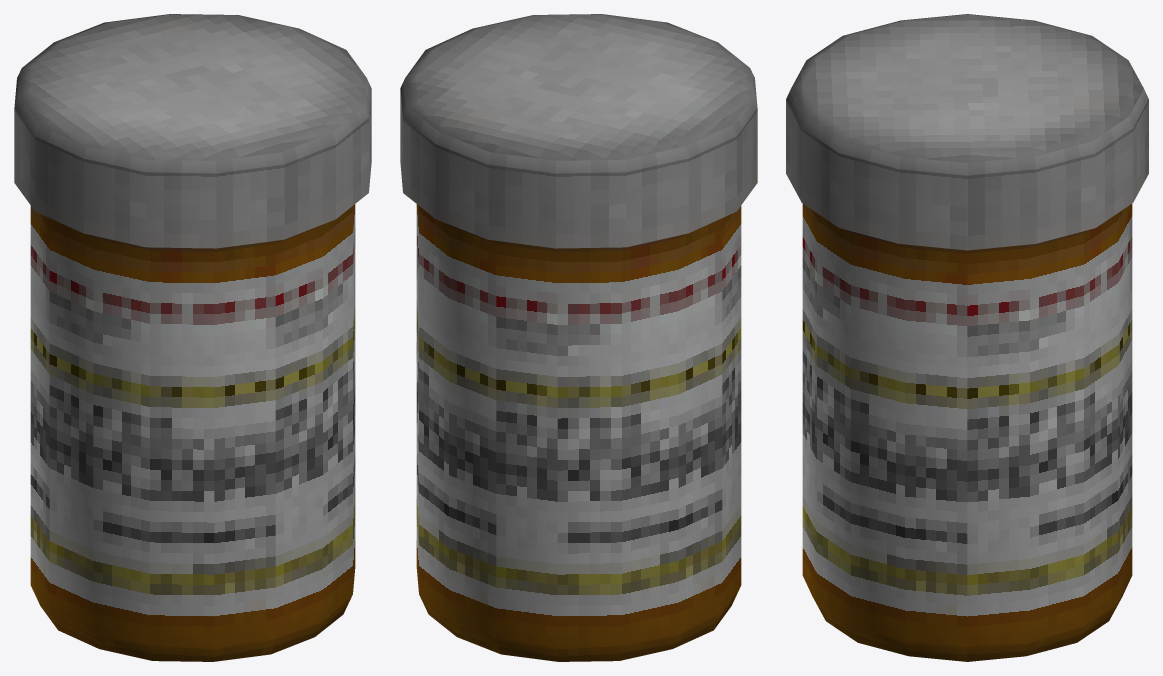
File: pills_bottle_1.glb
3 renders of one model, left to right at view 1: azimuth 30°, elevation 25°; view 2: azimuth 150°, elevation 25°; view 3: azimuth 270°, elevation 25°, orthographic.
Visible parts, largest first — view 1: pills_bottle_1; view 2: pills_bottle_1; view 3: pills_bottle_1.
Part boxes in pixels (box(x1,y1,x2,y2)): pills_bottle_1: box(14, 14, 371, 661); pills_bottle_1: box(400, 14, 757, 661); pills_bottle_1: box(786, 14, 1148, 661).
Bounding box in the file's own units: 0.0832 × 0.1318 × 0.0832.
1 material, 1 textured.
